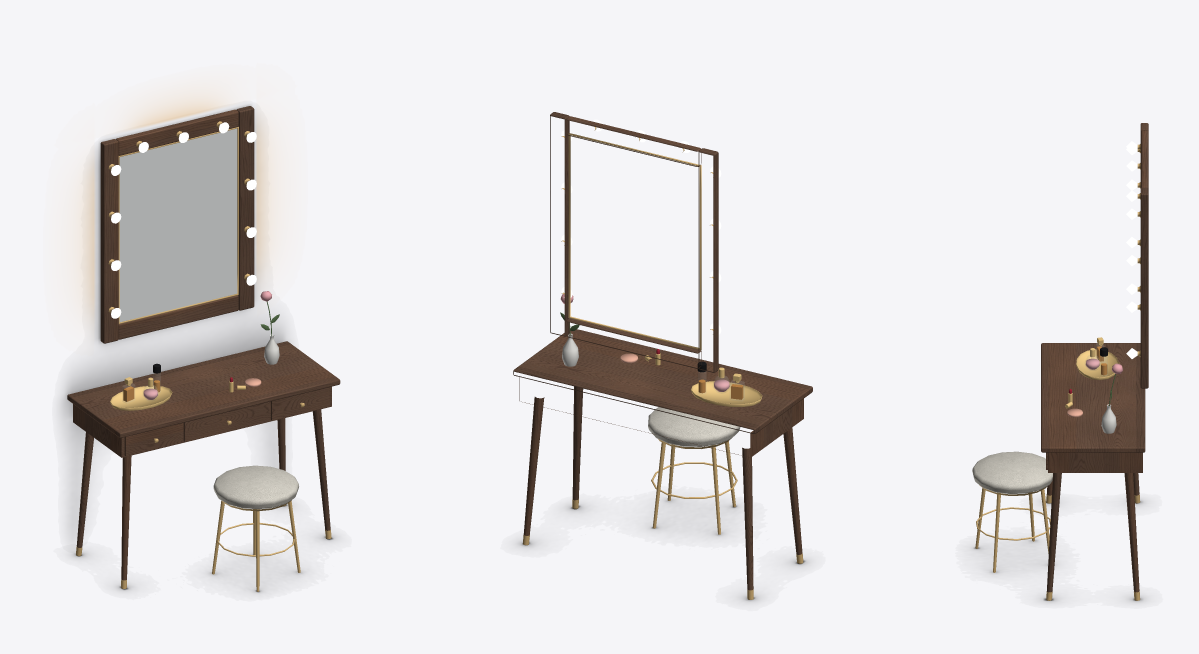
File: dressing_table.glb
3 views of the same model, side by side, from view 1: azimuth 30°, elevation 25°; view 2: azimuth 150°, elevation 25°; view 3: azimuth 270°, elevation 25° (orthographic). The views are drawn at different scales.
Parts seen in each view (by area): view 1: dressing_table_LOD0, dressing_table_Glow, dressing_table_Shadow; view 2: dressing_table_LOD0; view 3: dressing_table_LOD0.
Part boxes in pixels (<box>): dressing_table_LOD0: <box>67,106,340,591</box>; dressing_table_Glow: <box>73,90,277,320</box>; dressing_table_Shadow: <box>62,105,334,592</box>; dressing_table_LOD0: <box>513,112,812,599</box>; dressing_table_LOD0: <box>972,123,1148,600</box>.
Size of what is drawn, in the model's own units: 1.56 by 2.38 by 1.1.
Materials: 10 (6 with a texture image).
